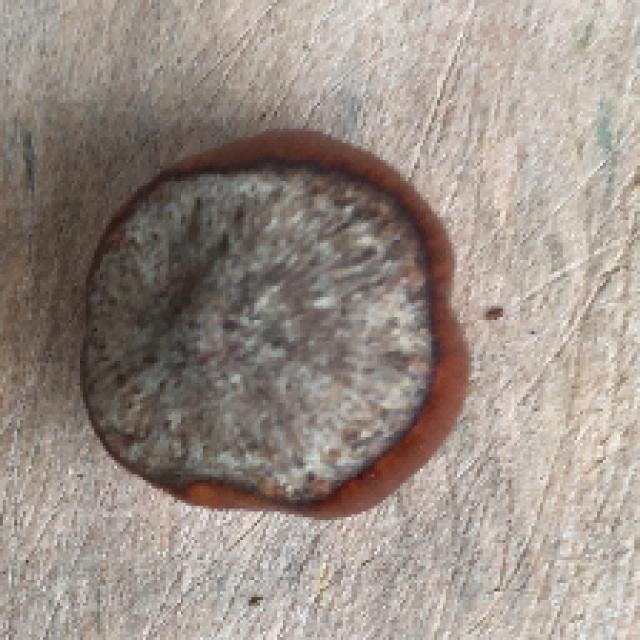qualityHazelnut: (66, 130, 481, 531)
